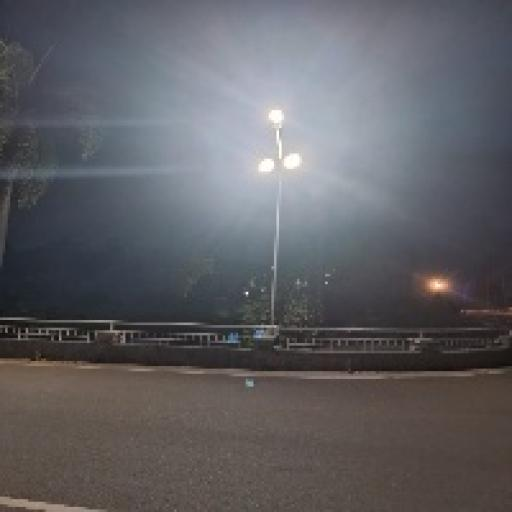Working: (250, 153, 278, 180), (280, 150, 309, 175), (264, 103, 290, 128), (428, 276, 446, 293)
